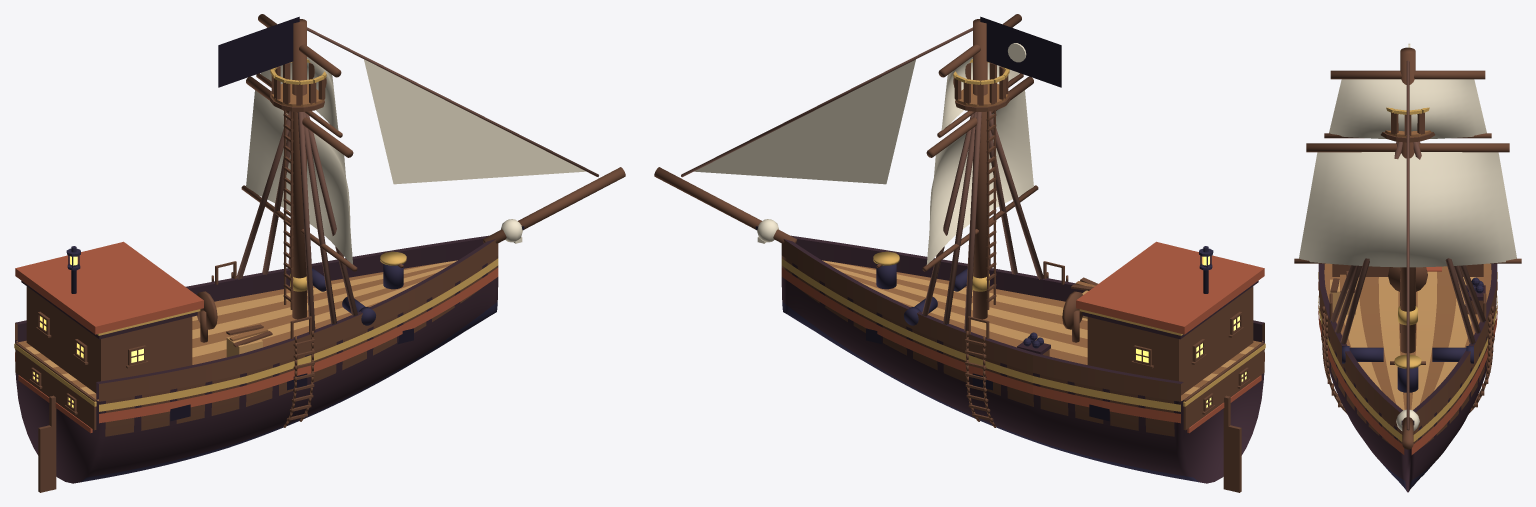
File: sloop.glb
3 renders of one model, left to right at view 1: azimuth 30°, elevation 25°; view 2: azimuth 150°, elevation 25°; view 3: azimuth 270°, elevation 25°, orthographic.
Visible parts, largest first — view 1: hull, sail_z707_jib, cut_roof, rail_out, sail_z582, cut_wall_s, rail_in.001, band.001, cut_wall_w, flag, band, mast (+20 smaller); view 2: hull, sail_z707_jib, cut_roof, rail_out.001, sail_z582, rail_in, band.003, cut_wall_w, cut_wall_n, band.002, flag, mast (+20 smaller); view 3: sail_z582, sail_z784, hull, deck.005, deck.006, deck.003, deck.002, yard_z582, mast, rope.078, yard_z784, rail_out (+30 smaller).
Part boxes in pixels (x1,y1,x2,y2): hull: [15, 255, 498, 483]; sail_z707_jib: [364, 59, 585, 184]; cut_roof: [15, 241, 203, 334]; rail_out: [99, 239, 498, 401]; sail_z582: [246, 90, 353, 264]; cut_wall_s: [97, 317, 192, 381]; rail_in.001: [17, 239, 483, 342]; band.001: [99, 268, 498, 423]; cut_wall_w: [26, 287, 106, 393]; flag: [218, 16, 299, 87]; band: [99, 258, 498, 411]; mast: [292, 19, 306, 319]; hull: [781, 255, 1264, 483]; sail_z707_jib: [694, 59, 915, 184]; cut_roof: [1076, 241, 1264, 334]; rail_out.001: [781, 239, 1180, 401]; sail_z582: [926, 90, 1033, 264]; rail_in: [796, 239, 1262, 342]; band.003: [781, 268, 1180, 423]; cut_wall_w: [1173, 288, 1253, 395]; cut_wall_n: [1087, 317, 1180, 381]; band.002: [781, 258, 1180, 411]; flag: [980, 16, 1061, 87]; mast: [973, 19, 987, 319]; sail_z582: [1299, 152, 1516, 267]; sail_z784: [1329, 79, 1486, 138]; hull: [1319, 302, 1496, 492]; deck.005: [1411, 271, 1437, 410]; deck.006: [1420, 266, 1456, 403]; deck.003: [1378, 277, 1404, 410]; deck.002: [1359, 277, 1395, 403]; yard_z582: [1306, 143, 1509, 152]; mast: [1400, 47, 1415, 353]; rope.078: [1406, 60, 1409, 430]; yard_z784: [1330, 70, 1485, 79]; rail_out: [1318, 272, 1402, 431].
Size of the model in its own units: 17.24 by 11.62 by 5.7.
